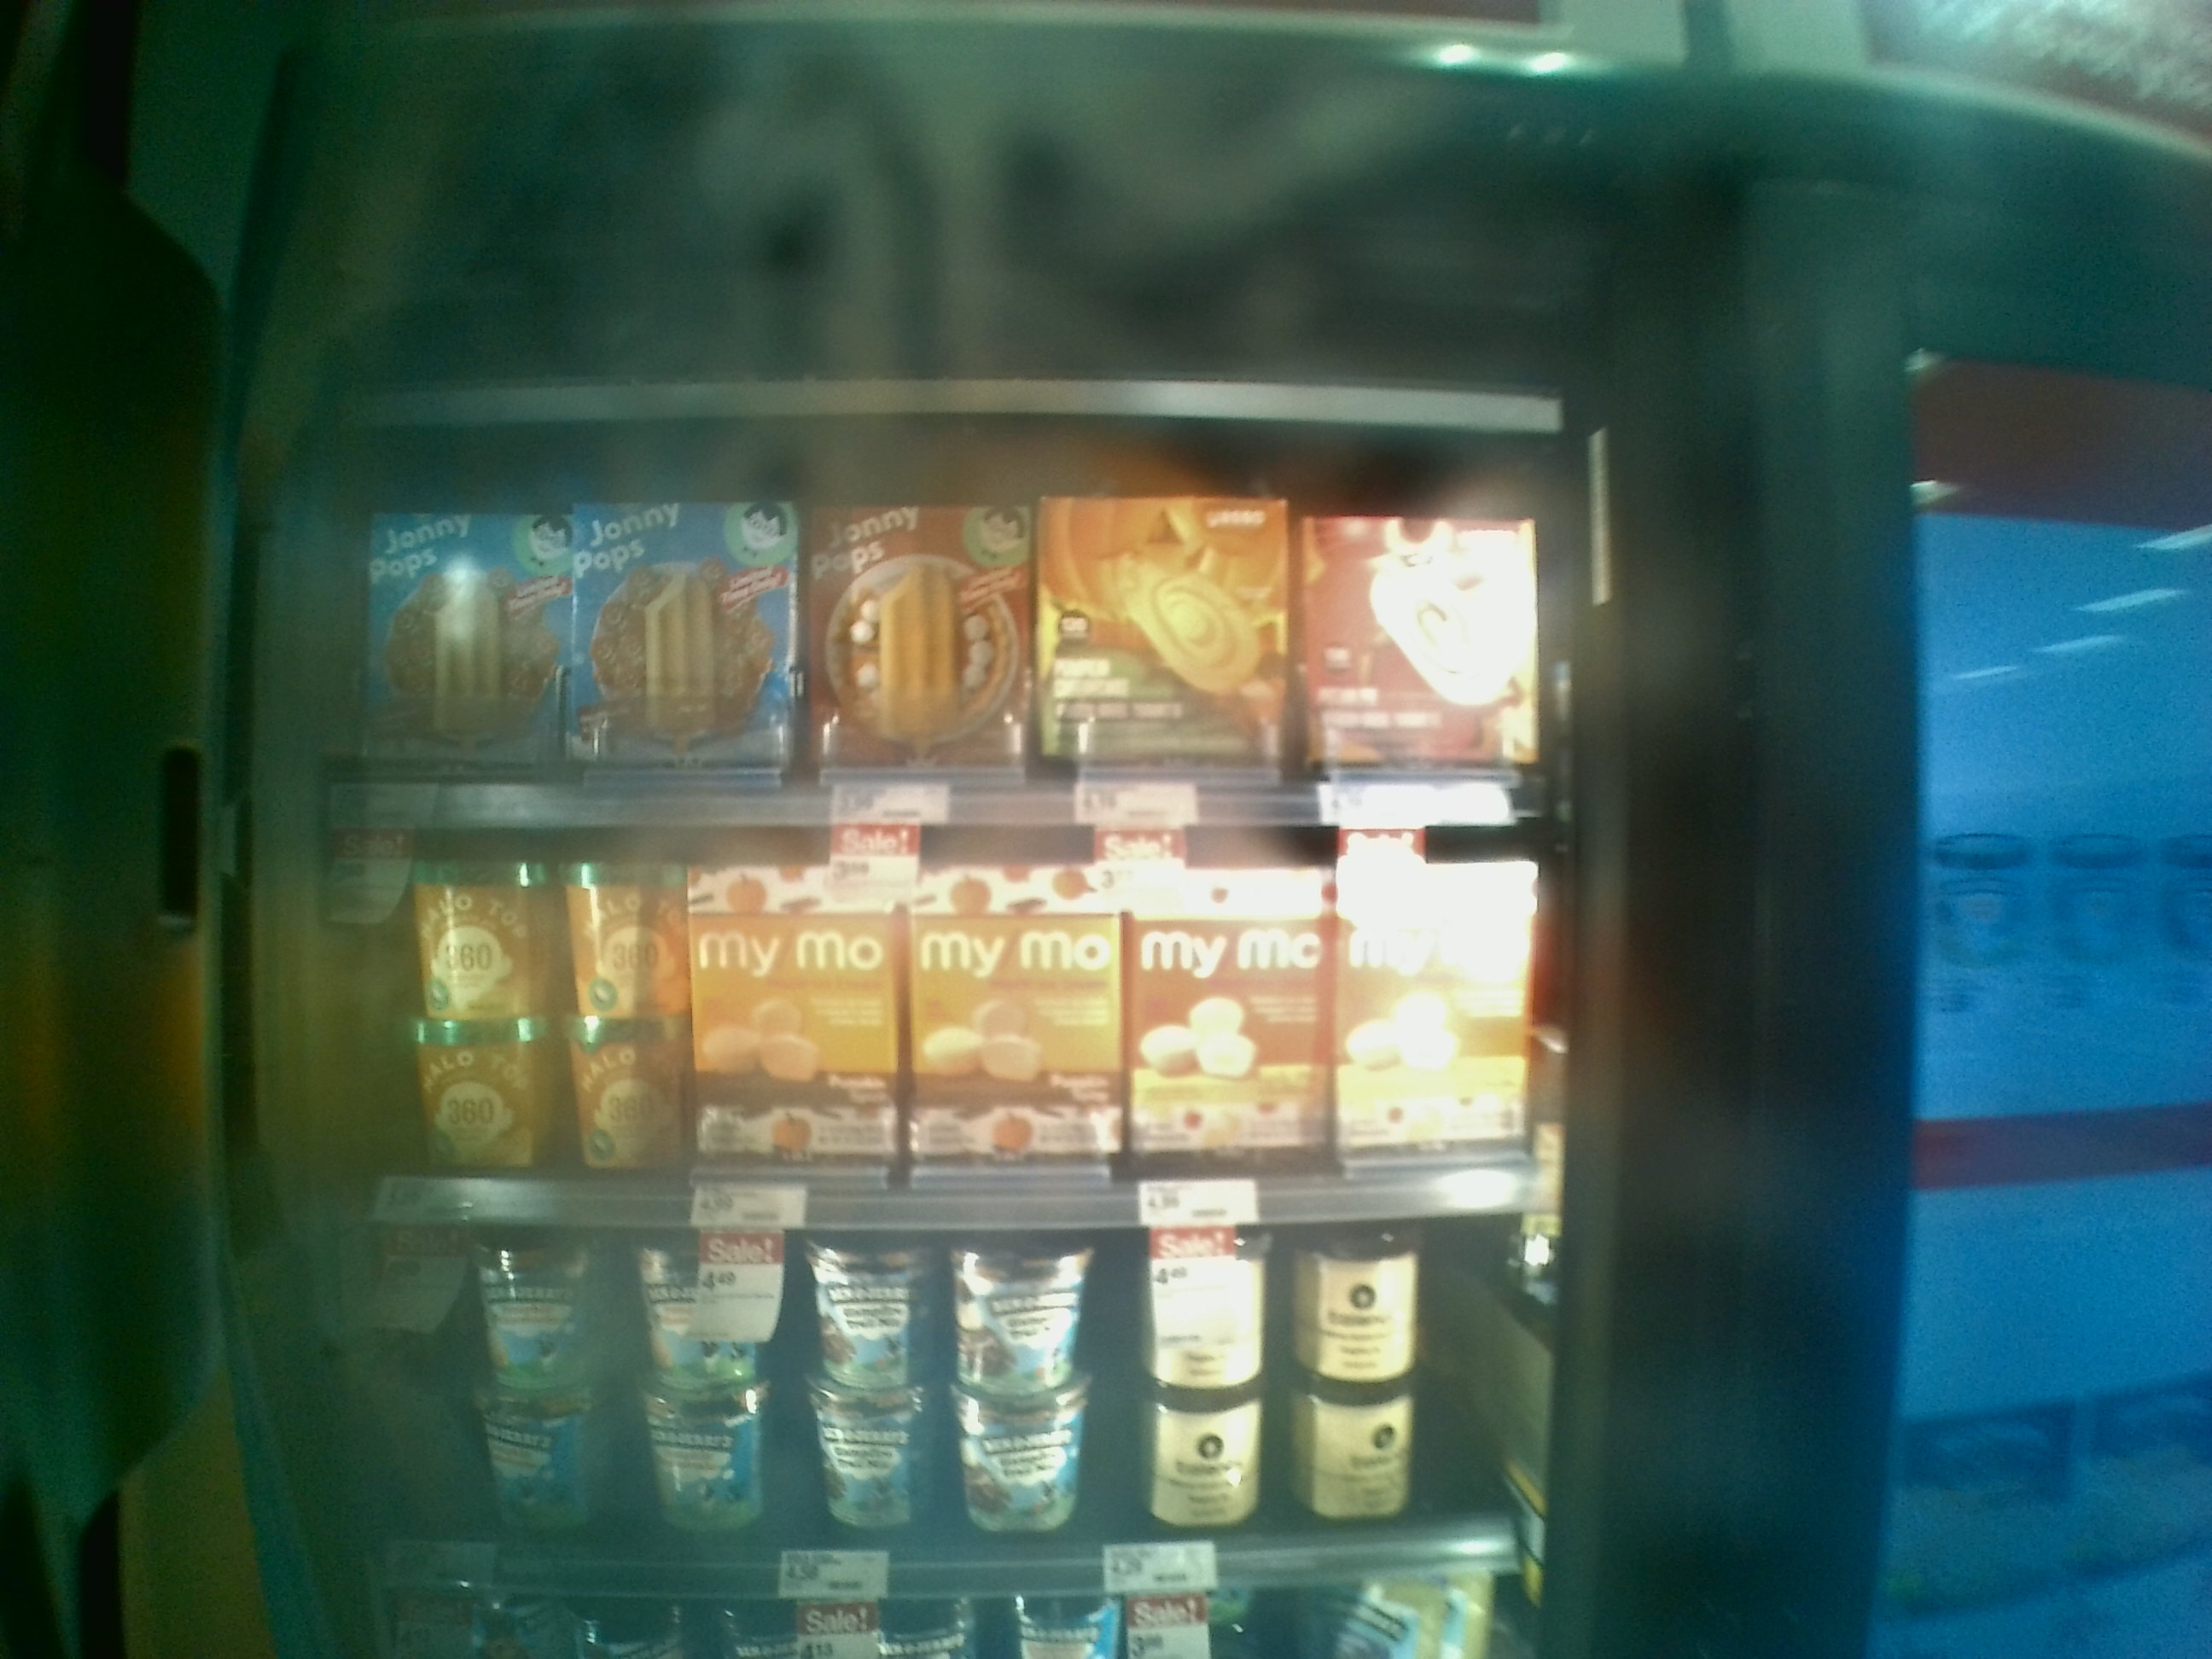shelf: (333, 793, 1564, 1230), (340, 429, 1559, 809), (322, 1202, 1540, 1577)
